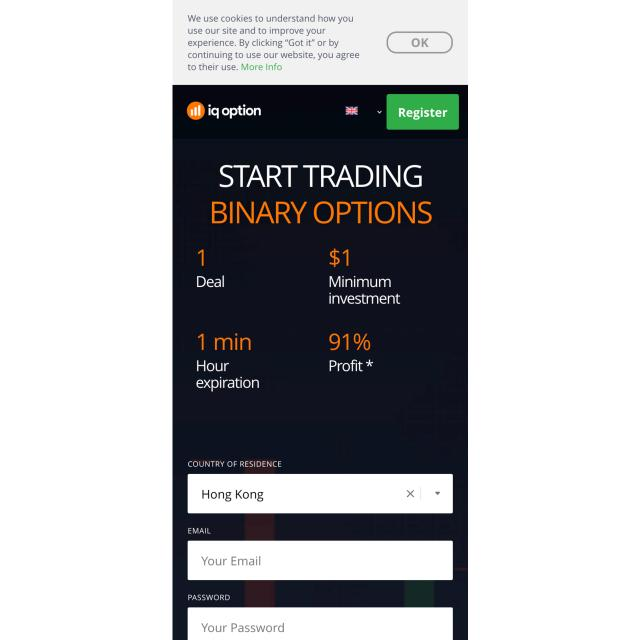input: (188, 472, 453, 514), (188, 540, 453, 580), (187, 606, 453, 640)
logo: (185, 100, 264, 122)
